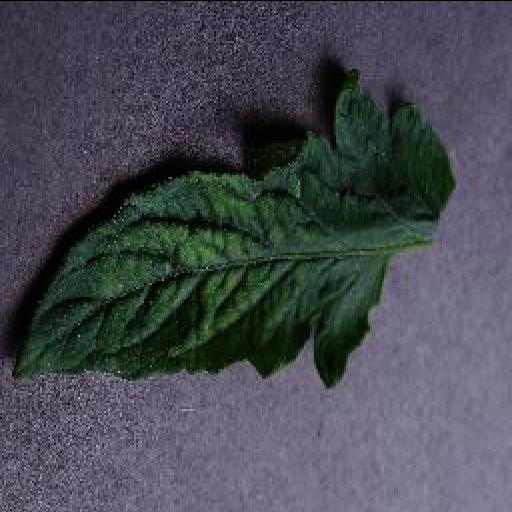disease_tomato: (10, 69, 458, 387)
